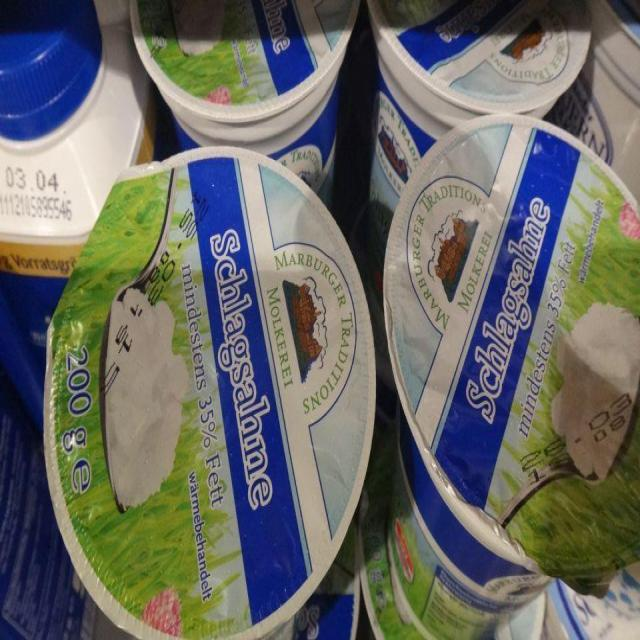Cream: (45, 148, 374, 636), (384, 115, 639, 638), (354, 0, 592, 385), (131, 0, 358, 201)
